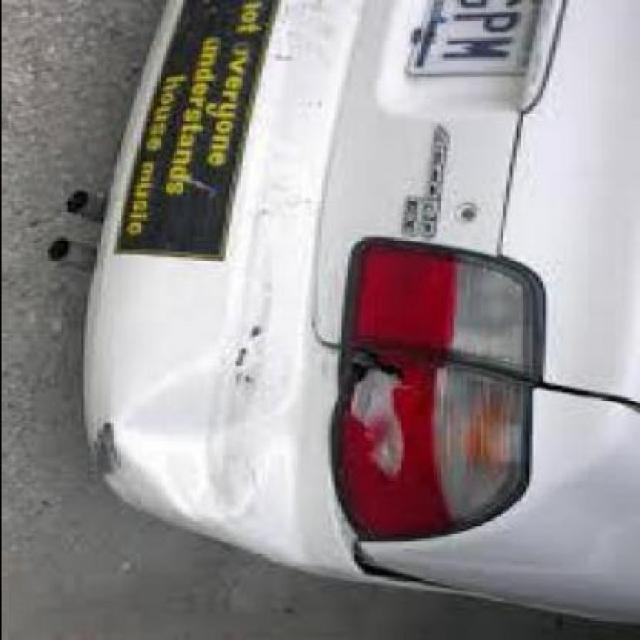damage: (83, 317, 289, 536), (341, 354, 413, 482)
